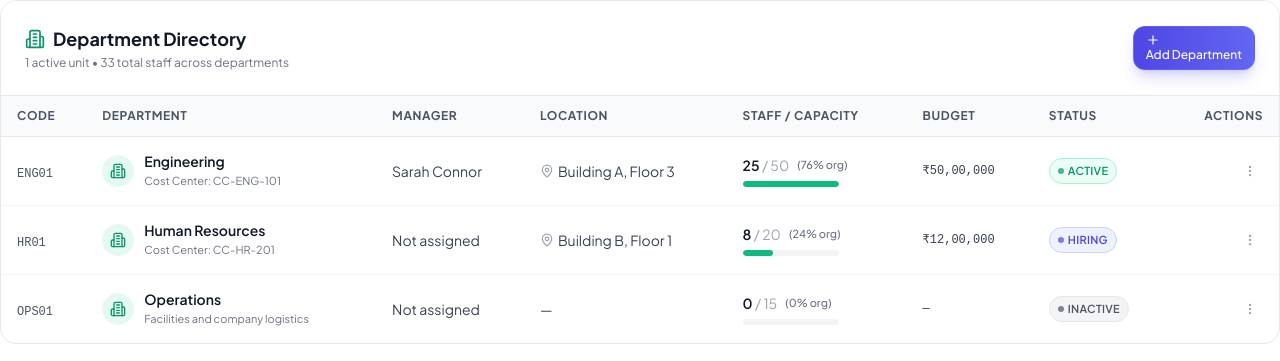
Test case: Department Table UI & Three-Dot Actions Menu › closes the dropdown menu on Escape key press
The image size is (1280, 361).
Click the button titled "More actions" at (1250, 171), box [1237,158,1263,184]
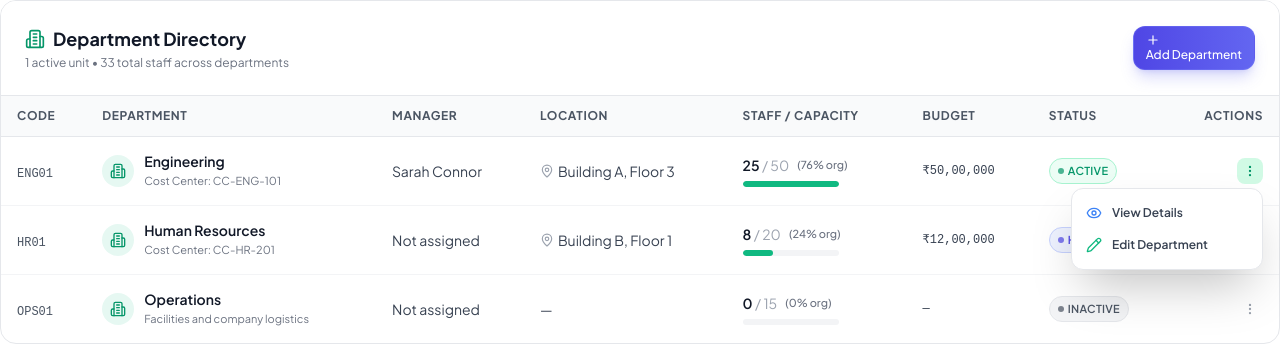
Check: the text "View Details" is shown, box [1112,205,1183,221]
Press Escape
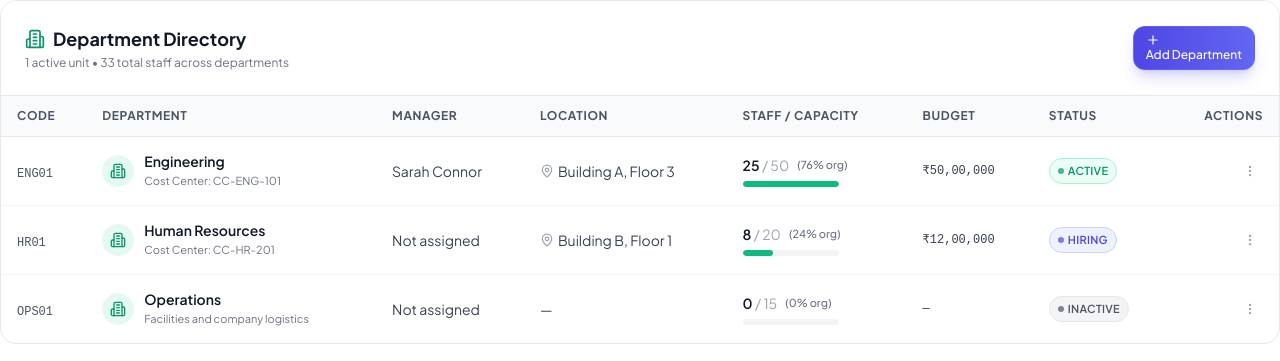
Check: the button "View Details" is gone
